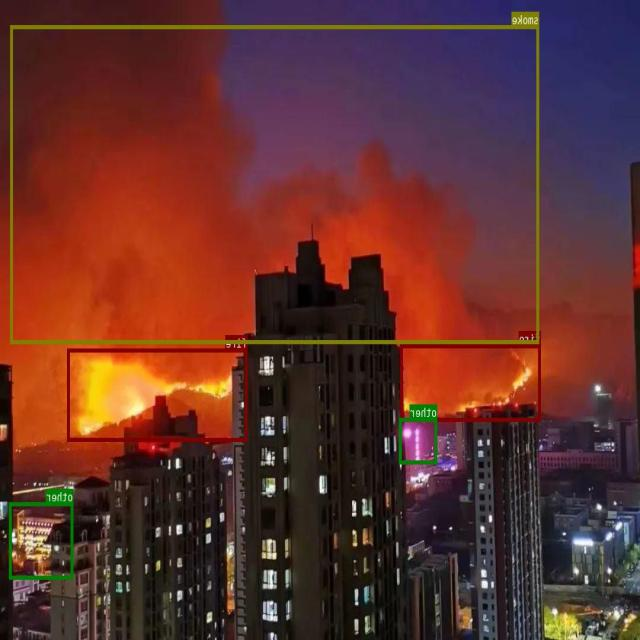fire: (68, 348, 248, 441), (401, 343, 541, 421)
other: (10, 501, 73, 579), (400, 417, 438, 464)
smoke: (11, 24, 539, 343)
